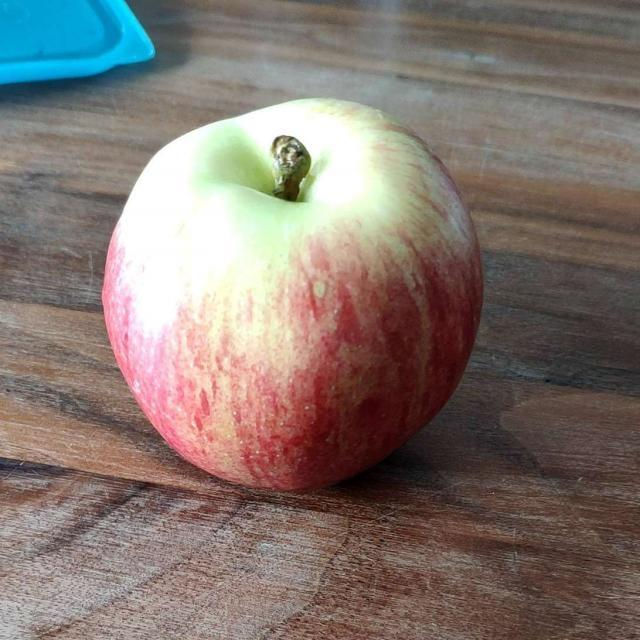apple: (109, 114, 474, 489)
